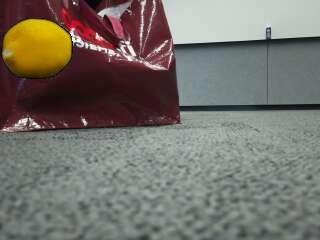lemon: (2, 20, 71, 79)
